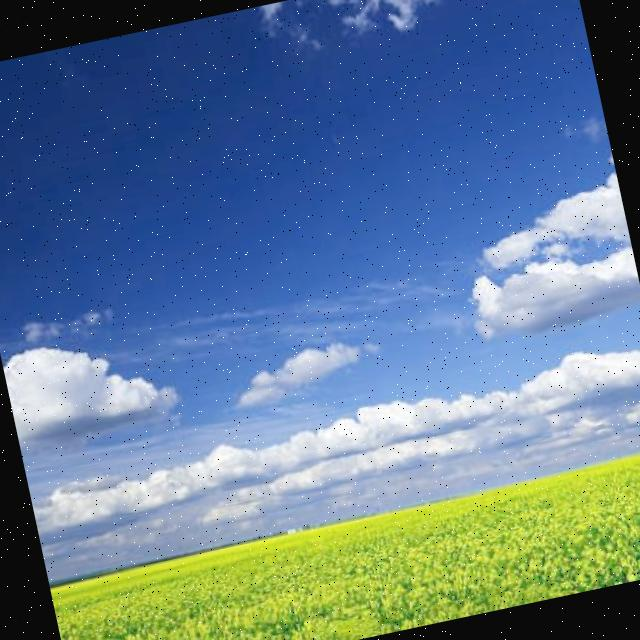Cu: (1, 67, 640, 557)
